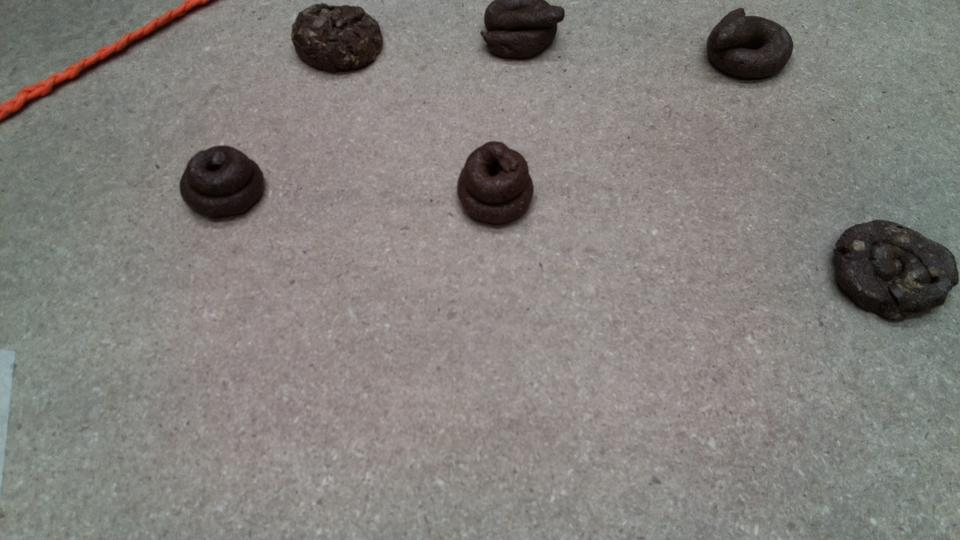poop: (825, 213, 958, 330), (453, 138, 542, 233), (702, 7, 796, 91), (180, 142, 273, 226), (289, 1, 390, 77), (481, 3, 567, 64)
rope: (76, 1, 220, 88), (2, 53, 107, 129)
